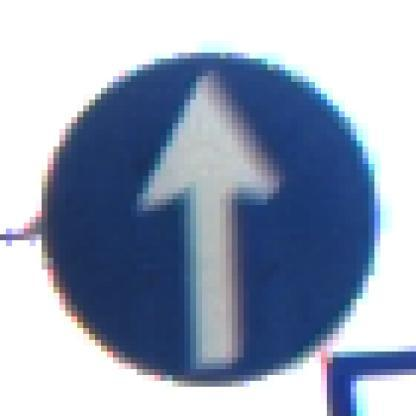straight: (36, 47, 392, 375)
